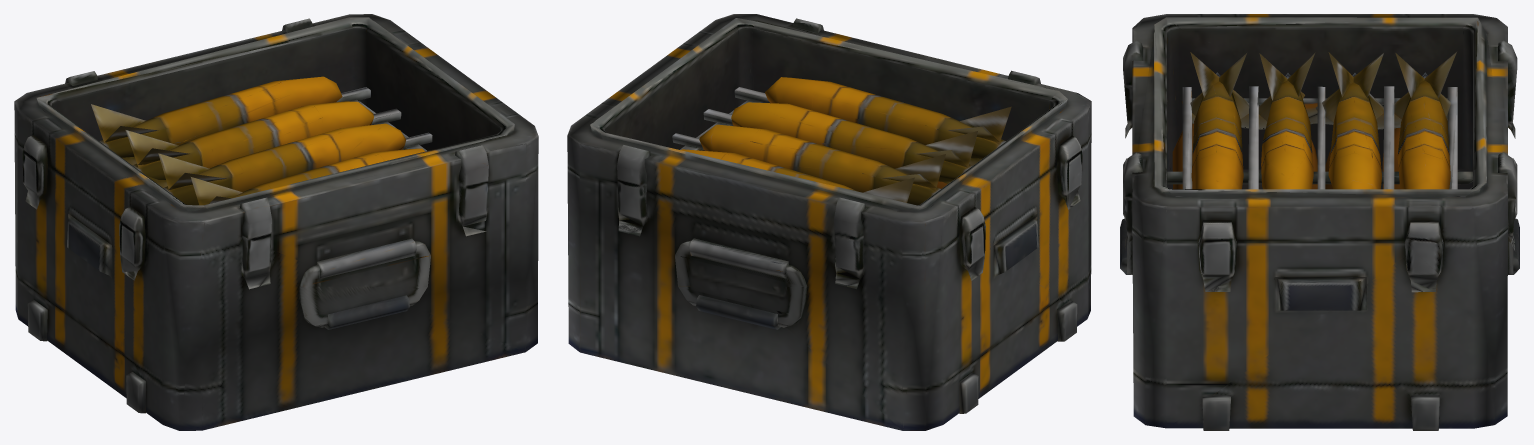
The model's file is loot_rockets.glb.
The picture shows the model from 3 angles, left to right: view 1: azimuth 30°, elevation 25°; view 2: azimuth 150°, elevation 25°; view 3: azimuth 270°, elevation 25°; orthographic projection. The views are drawn at different scales.
Visible parts, largest first — view 1: geometry_0; view 2: geometry_0; view 3: geometry_0.
Part boxes in pixels (x1,y1,x2,y2): geometry_0: (14,14,538,430); geometry_0: (567,14,1091,430); geometry_0: (1120,14,1519,430).
Bounding box in the file's own units: 0.9497 × 0.5 × 0.7852.
Materials: 1 (1 with a texture image).
